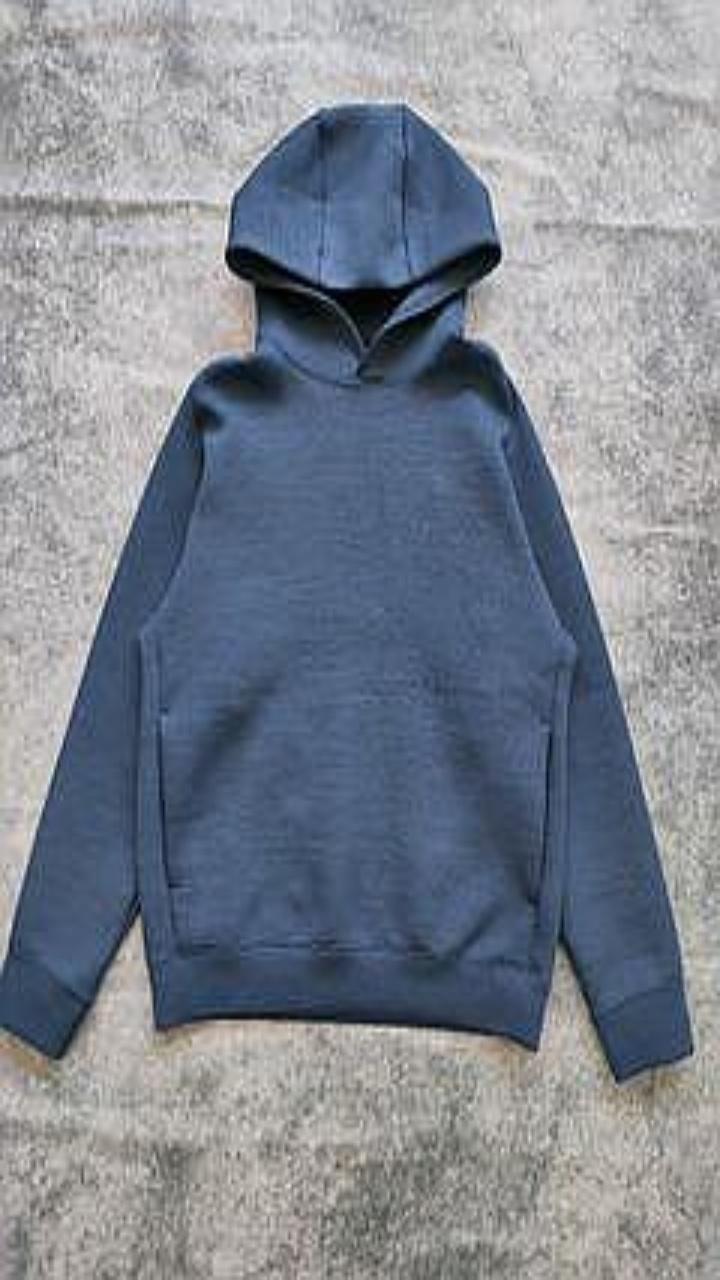Hoodie: (0, 103, 692, 1079)
